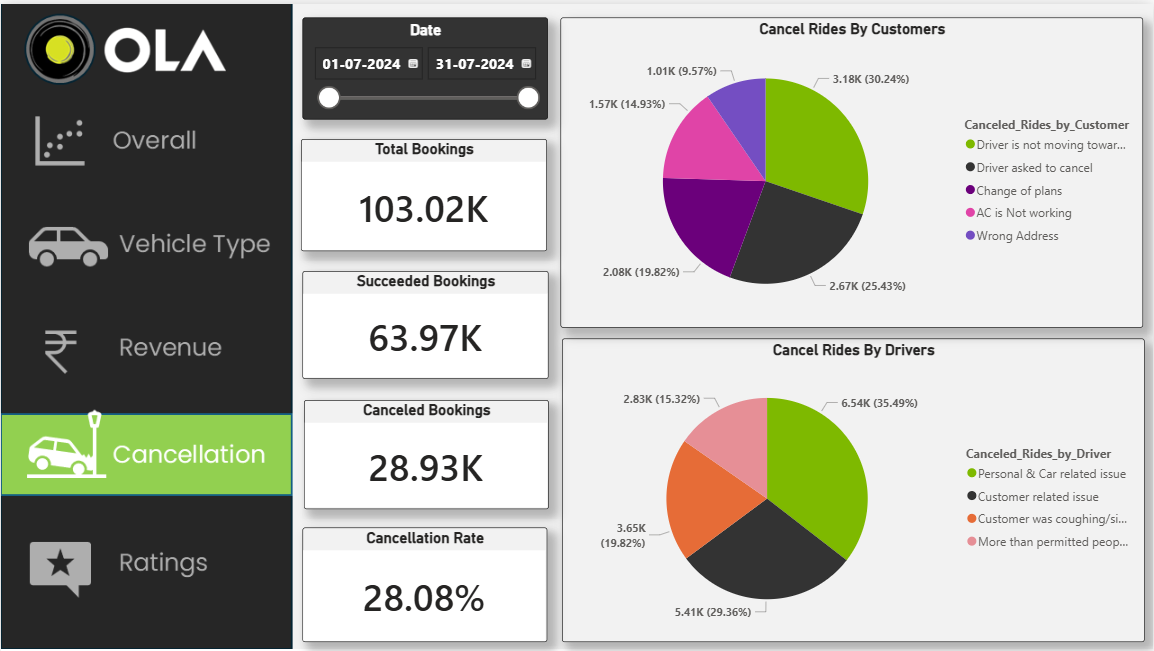

What the dashboard file says about the page in this screenshot:
{"tool":"powerbi","page":{"name":"Cancellation","canvas":[1280,720],"ordinal":3},"visuals":[{"type":"actionButton","box":[0,581.2,322.9,91.4],"z":0},{"type":"actionButton","box":[0,222.1,322.9,91.4],"z":1000},{"type":"actionButton","box":[0,337.1,322.9,91.4],"z":2000},{"type":"actionButton","box":[0,105.5,322.9,91.4],"z":3000},{"type":"pieChart","title":"Cancel Rides By Customers","fields":{"Category":["ola bookings.Canceled_Rides_by_Customer"],"Y":["CountNonNull(ola bookings.Canceled_Rides_by_Customer)"]},"box":[622.2,15.8,647.4,344.9],"z":4000},{"type":"pieChart","title":"Cancel Rides By Drivers","fields":{"Category":["ola bookings.Canceled_Rides_by_Driver"],"Y":["CountNonNull(ola bookings.Canceled_Rides_by_Driver)"]},"box":[623.7,371.7,647.4,337.1],"z":5000},{"type":"slicer","title":"Date","fields":{"Values":["ola bookings.Date"]},"box":[335.5,15.8,272.5,113.4],"z":6000},{"type":"cardVisual","title":"Total Bookings","fields":{"Data":["CountNonNull(ola bookings.Booking_ID)"]},"box":[333.7,150.8,273.2,125],"z":7000},{"type":"cardVisual","title":"Succeeded Bookings","fields":{"Data":["CountNonNull(ola bookings.Booking_ID)"]},"box":[335,296.4,273.2,119.8],"z":8000},{"type":"cardVisual","title":"Canceled Bookings","fields":{"Data":["CountNonNull(ola bookings.Booking_ID)"]},"box":[336.3,439.4,271.9,121.1],"z":9000},{"type":"cardVisual","title":"Cancellation Rate","fields":{"Data":["ola bookings.CanceledPercentage"]},"box":[335,581.2,271.9,127.6],"z":10000}]}

Visuals, with their boxes in screenshot pixels (x1, y1, x2, y2), scaled from the page's 1280x720 canvas onto the 1154x651 screenshot:
actionButton: l=0, t=526, r=291, b=608
actionButton: l=0, t=201, r=291, b=283
actionButton: l=0, t=305, r=291, b=387
actionButton: l=0, t=95, r=291, b=178
"Cancel Rides By Customers" pieChart: l=561, t=14, r=1145, b=326
"Cancel Rides By Drivers" pieChart: l=562, t=336, r=1146, b=641
"Date" slicer: l=302, t=14, r=548, b=117
"Total Bookings" cardVisual: l=301, t=136, r=547, b=249
"Succeeded Bookings" cardVisual: l=302, t=268, r=548, b=376
"Canceled Bookings" cardVisual: l=303, t=397, r=548, b=507
"Cancellation Rate" cardVisual: l=302, t=526, r=547, b=641
